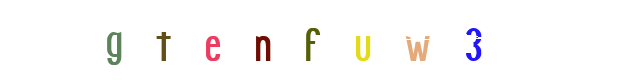3: (435, 0, 515, 80)
E: (203, 0, 283, 80)
F: (270, 0, 350, 80)
G: (82, 0, 162, 80)
N: (222, 0, 302, 80)
T: (172, 0, 252, 80)
U: (316, 0, 396, 80)
W: (323, 0, 403, 80)
